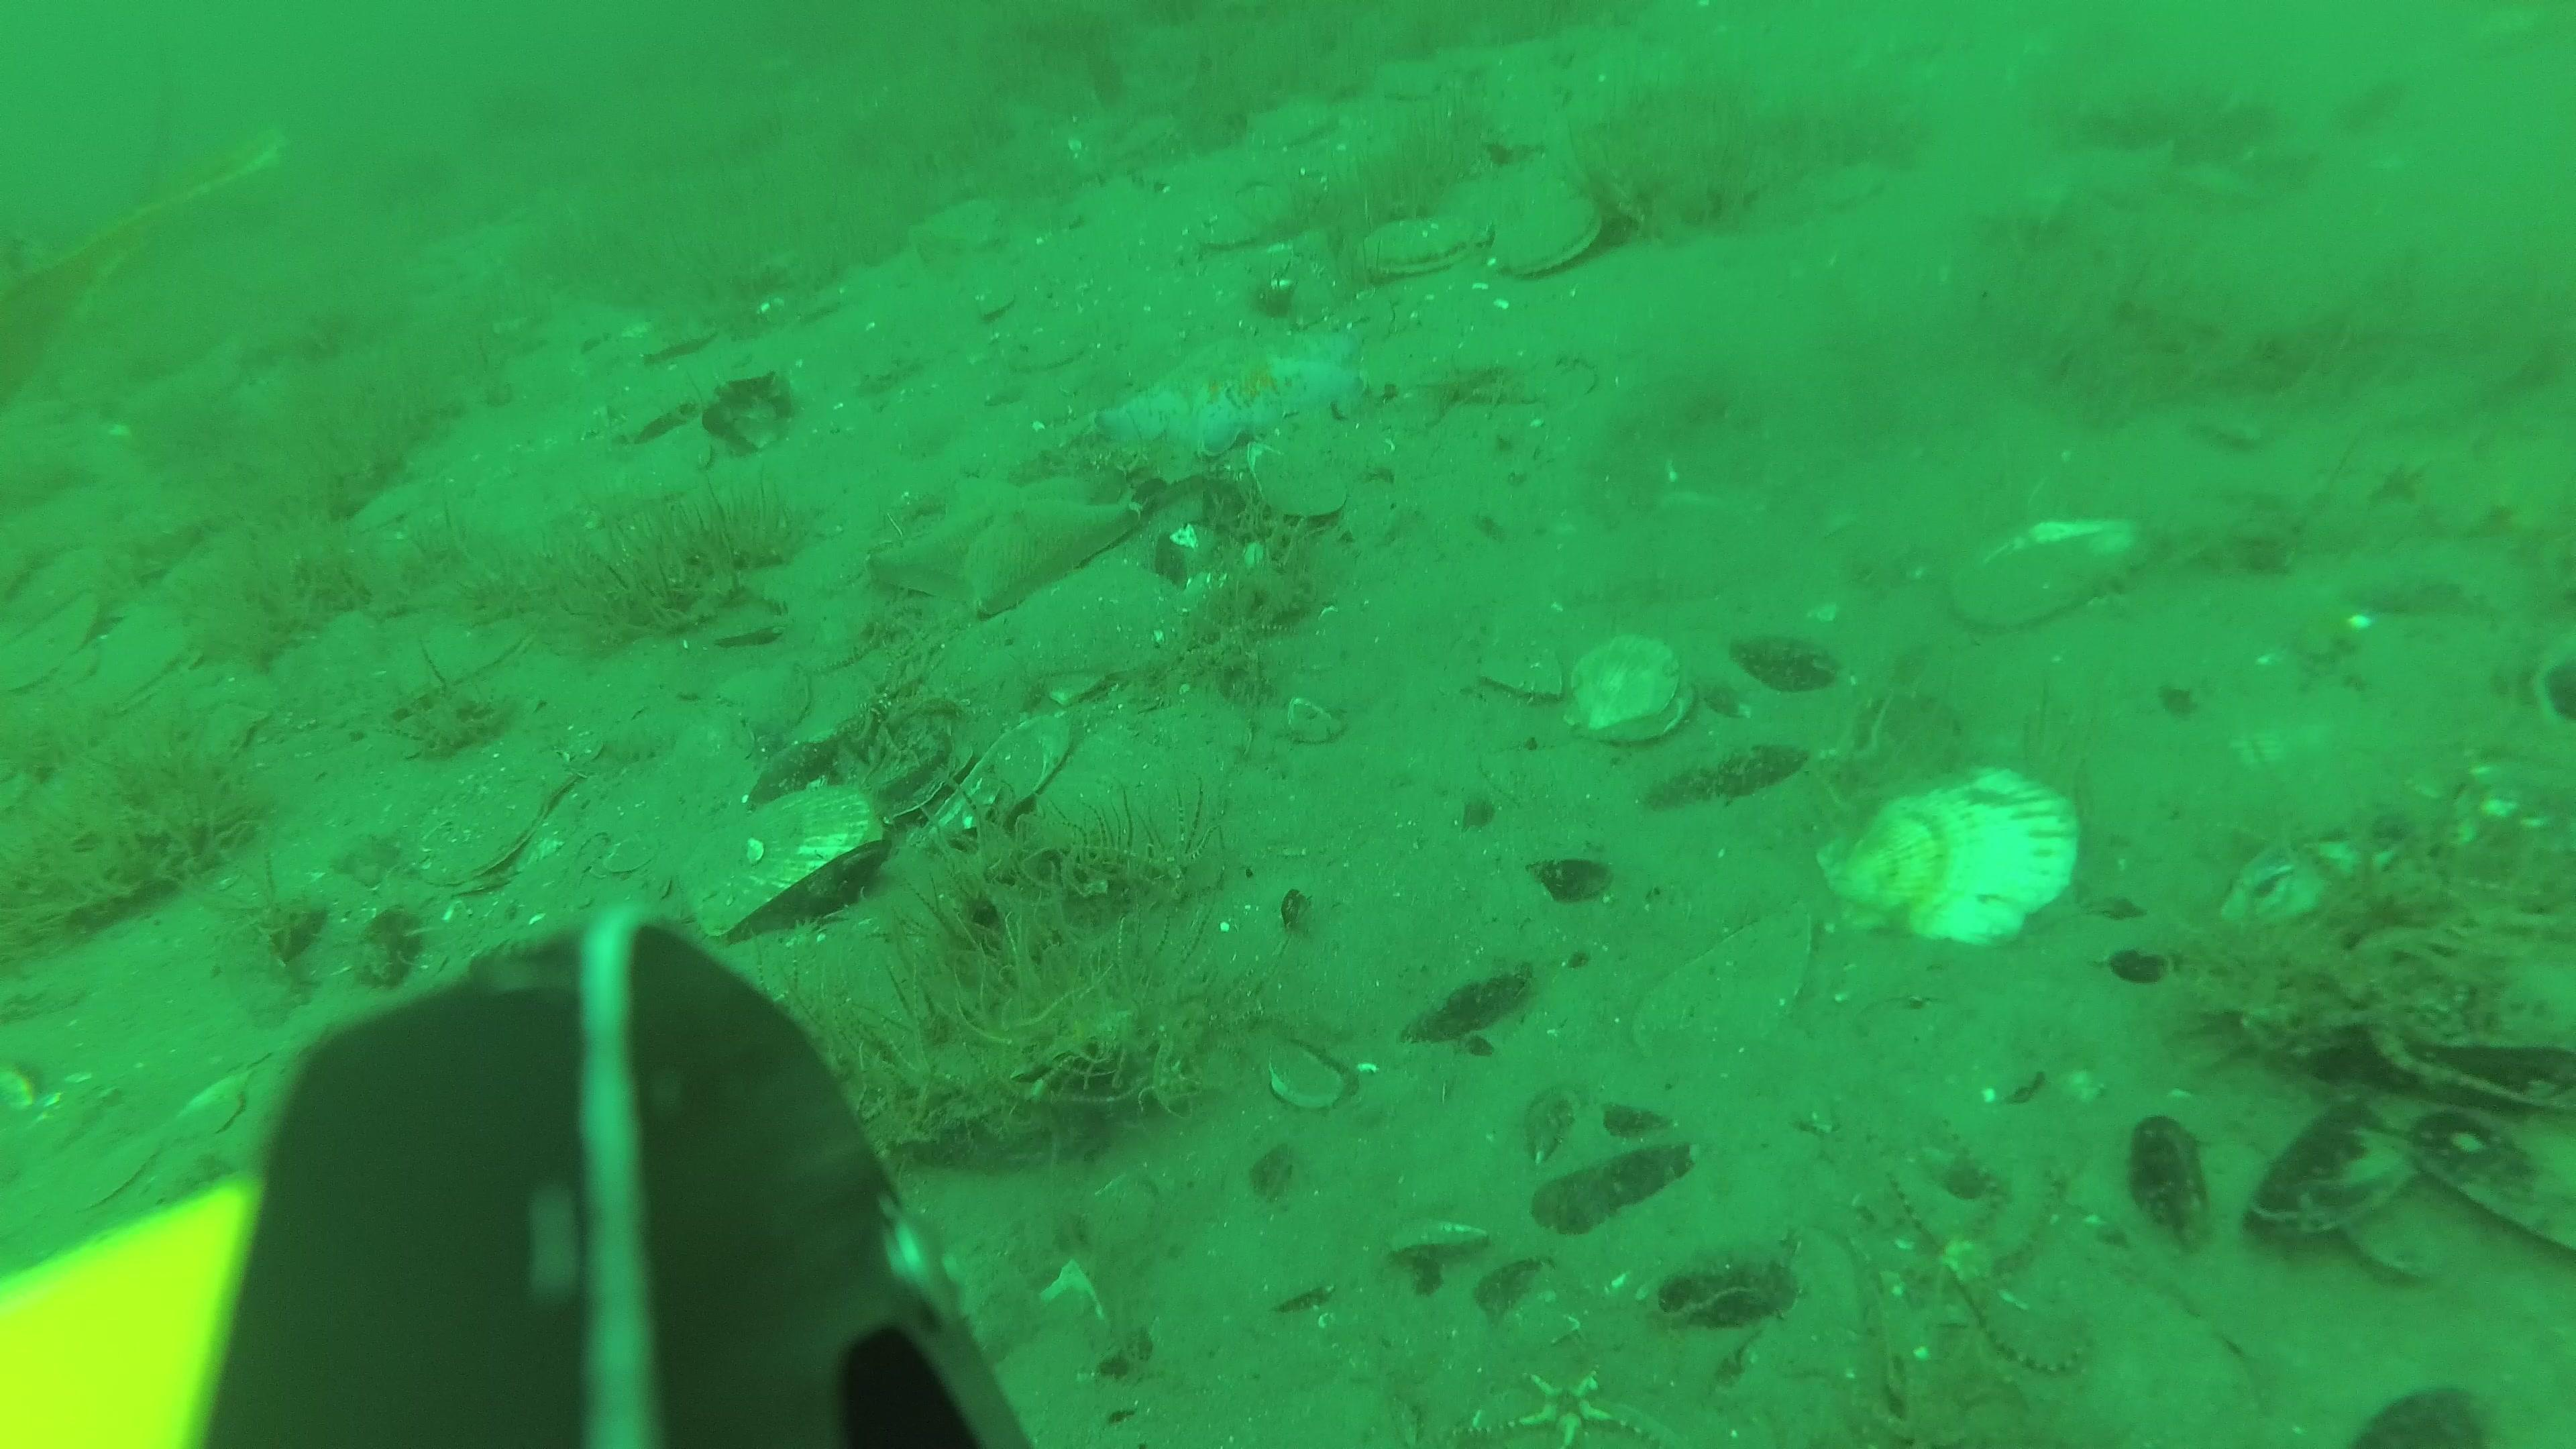scallop: (1810, 764, 2084, 941), (678, 789, 886, 929), (1946, 510, 2135, 626), (1559, 630, 1691, 740), (421, 773, 540, 888), (1488, 198, 1599, 276), (1350, 214, 1484, 278)
starfish: (870, 469, 1143, 607), (1090, 310, 1350, 448)
